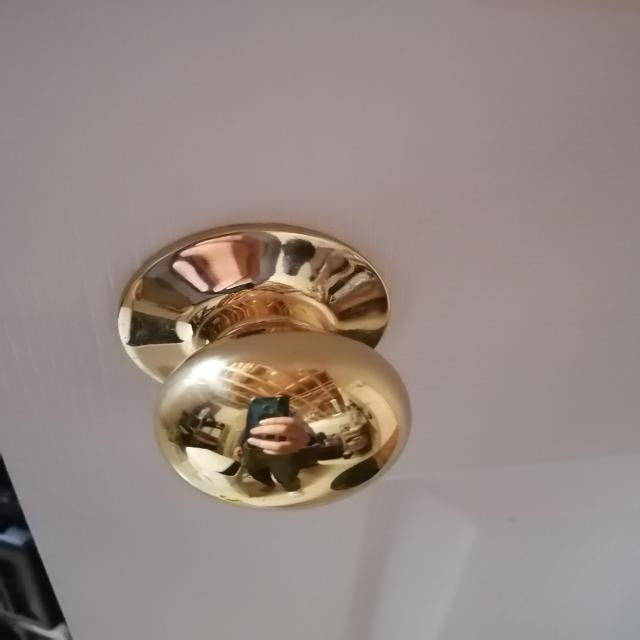door-knob: (118, 224, 410, 508)
